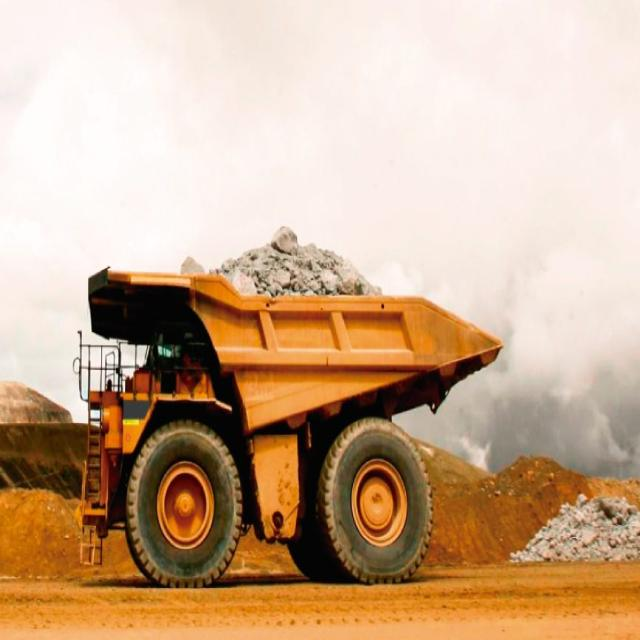dump_truck: (69, 207, 512, 602)
